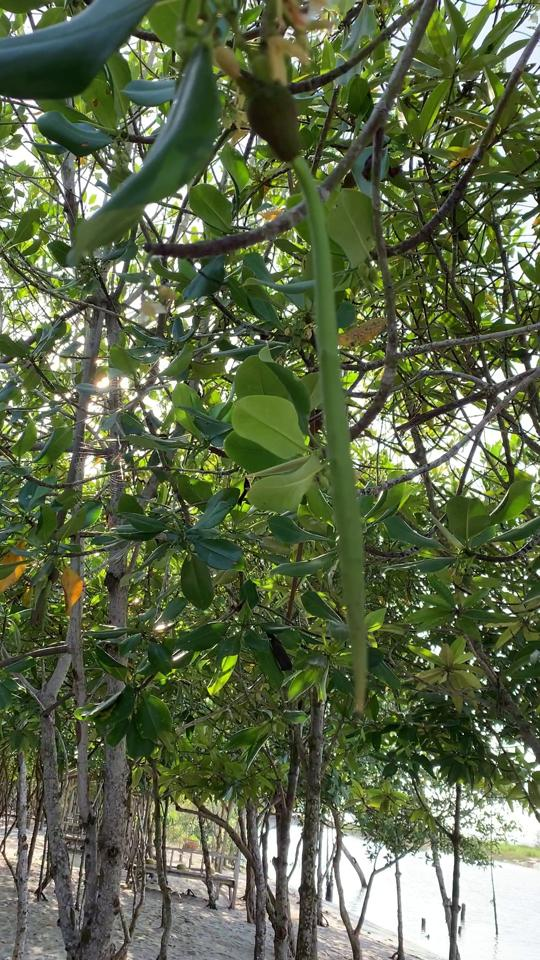mentah: (217, 60, 390, 727)
